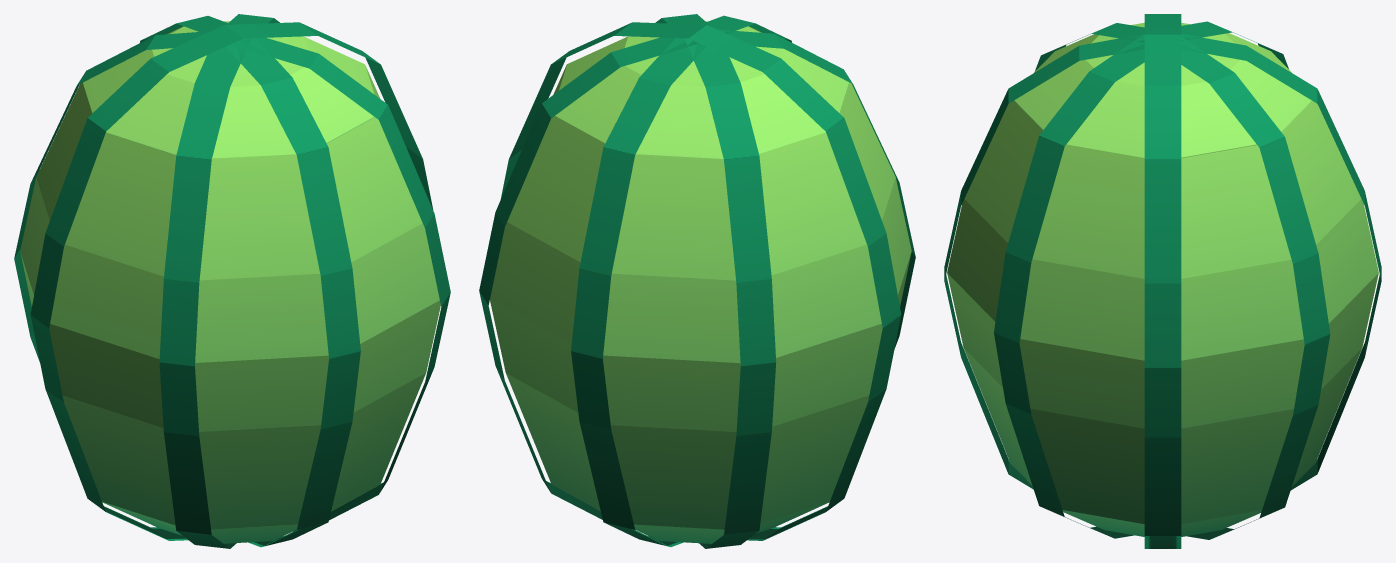
Rendered from Watermelon.glb.
3 renders of one model, left to right at view 1: azimuth 30°, elevation 25°; view 2: azimuth 150°, elevation 25°; view 3: azimuth 270°, elevation 25°, orthographic.
Visible parts, largest first — view 1: Sphere, Sphere.004, Sphere.001, Sphere.002, Sphere.003; view 2: Sphere, Sphere.003, Sphere.001, Sphere.002, Sphere.004; view 3: Sphere, Sphere.002, Sphere.003, Sphere.004, Sphere.001.
Boxes of the visible parts, box(x1,y1,x2,y2) form: Sphere: box(20, 21, 440, 543); Sphere.004: box(159, 14, 279, 548); Sphere.001: box(140, 16, 360, 547); Sphere.002: box(30, 22, 433, 540); Sphere.003: box(14, 31, 450, 531); Sphere: box(490, 21, 911, 543); Sphere.003: box(655, 14, 776, 548); Sphere.001: box(571, 15, 791, 546); Sphere.002: box(500, 22, 901, 540); Sphere.004: box(479, 29, 915, 530); Sphere: box(947, 22, 1378, 536); Sphere.002: box(1144, 14, 1181, 548); Sphere.003: box(994, 21, 1288, 538); Sphere.004: box(1035, 23, 1330, 539); Sphere.001: box(944, 34, 1381, 490).
Bounding box in the file's own units: 2.05 × 2.52 × 2.02.
2 materials, 2 textured.
